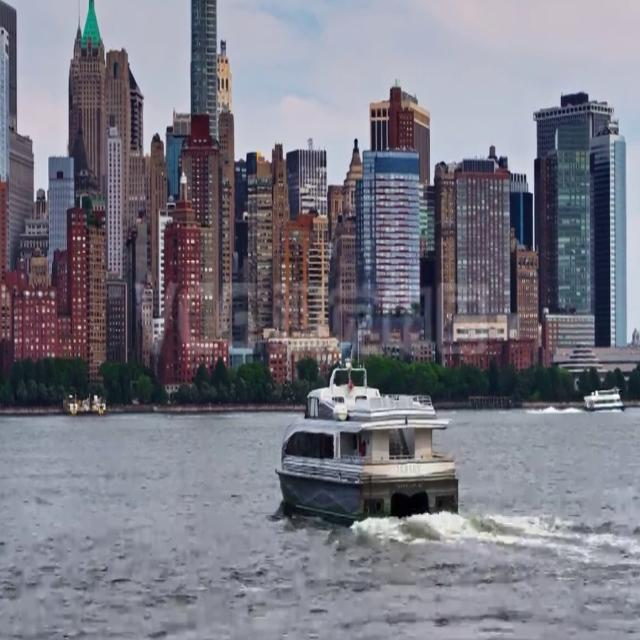houseboat: (275, 356, 459, 531), (586, 387, 625, 417)
